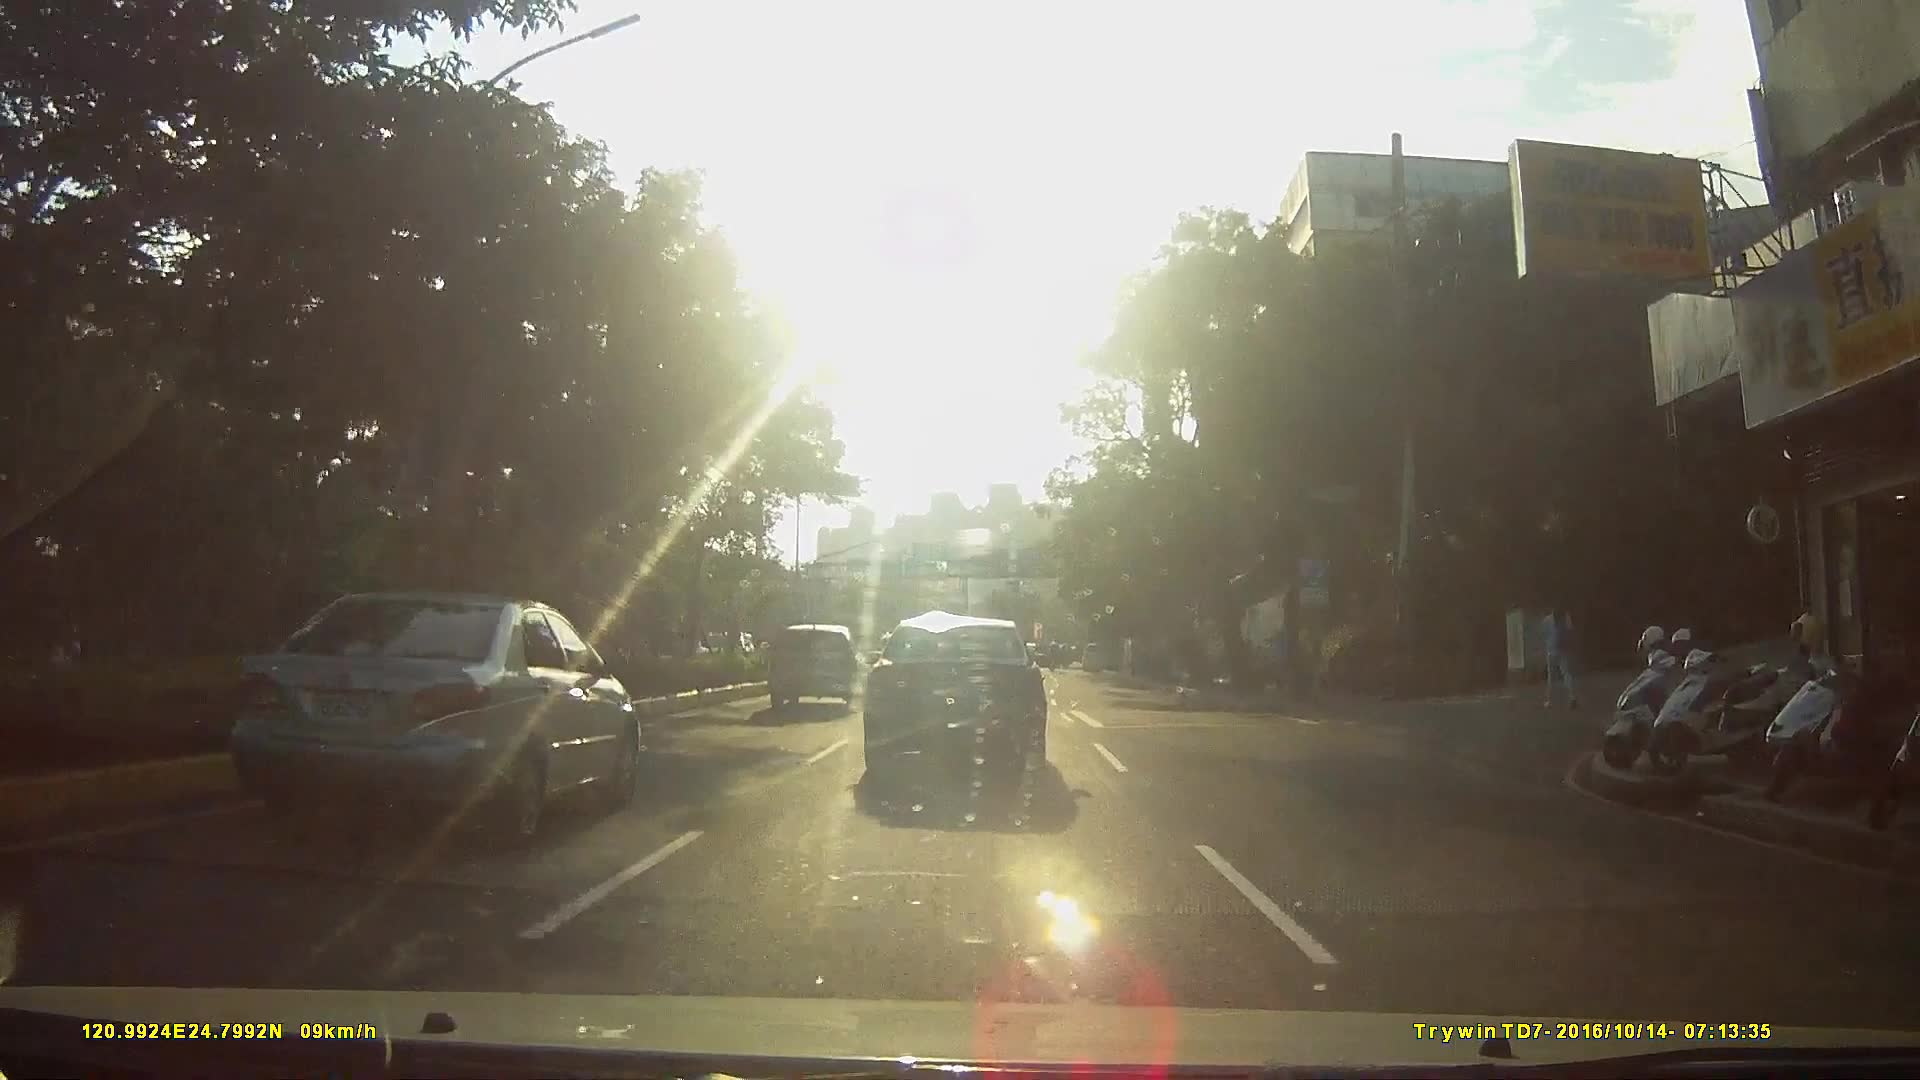pedestrian: (1544, 590, 1593, 703)
vehicle: (217, 587, 648, 846), (866, 613, 1067, 786), (768, 623, 873, 712), (1078, 640, 1111, 673)
